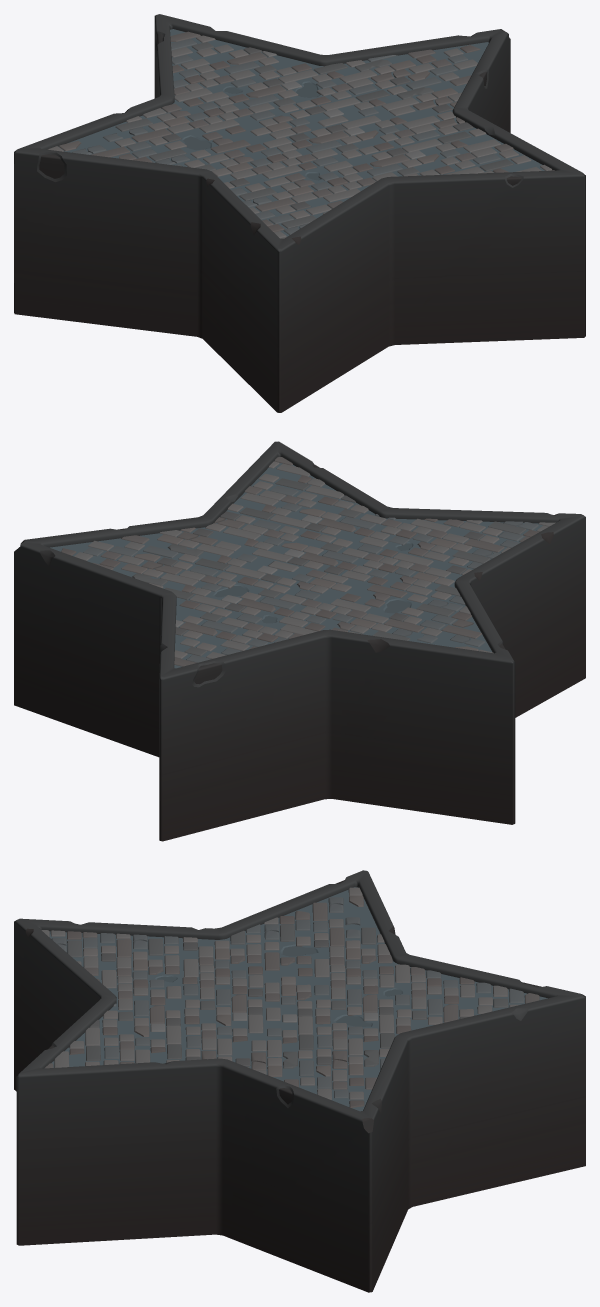
The model's file is PlatformStar_001.glb.
3 views of the same model, one above another, from view 1: azimuth 30°, elevation 25°; view 2: azimuth 150°, elevation 25°; view 3: azimuth 270°, elevation 25° (orthographic). The views are drawn at different scales.
Visible parts, largest first — view 1: PlatformStar_001; view 2: PlatformStar_001; view 3: PlatformStar_001.
Part boxes in pixels (x1=…): PlatformStar_001: x1=14, y1=14, x2=585, y2=412; PlatformStar_001: x1=14, y1=441, x2=585, y2=841; PlatformStar_001: x1=14, y1=870, x2=585, y2=1292.
Bounding box in the file's own units: 61.34 × 19.2 × 58.47.
1 material, 1 textured.
